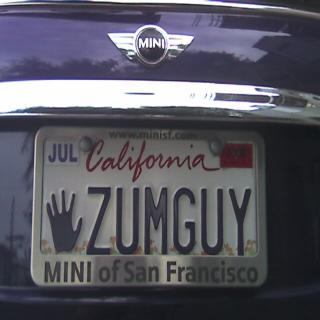license: (32, 127, 268, 292)
